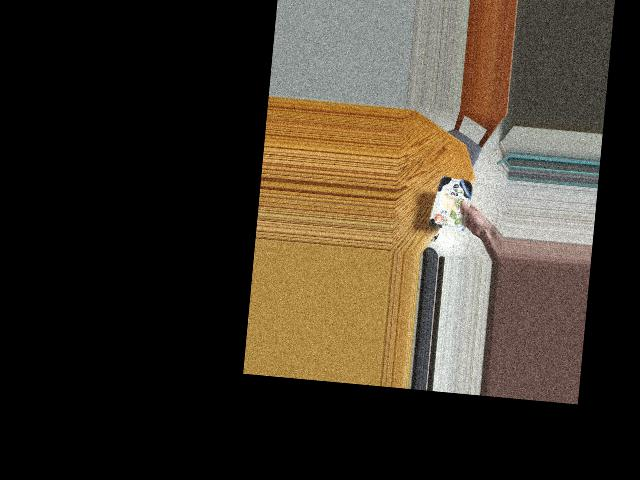cheese: (432, 178, 473, 227)
